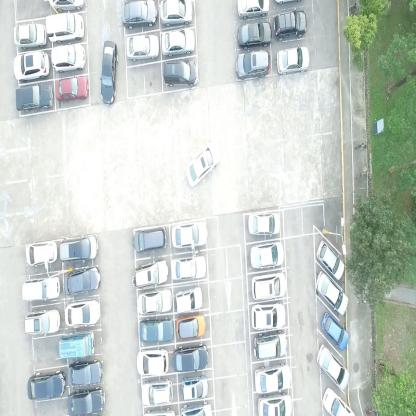car: (314, 343, 350, 392), (314, 268, 349, 316), (186, 139, 221, 187), (314, 237, 345, 282), (318, 310, 349, 352), (99, 38, 118, 105), (13, 49, 49, 84), (27, 368, 65, 400), (50, 42, 86, 75), (254, 363, 292, 394), (59, 233, 98, 263), (21, 274, 60, 304), (45, 12, 85, 41), (273, 8, 307, 42), (132, 258, 168, 290), (64, 264, 100, 296), (235, 48, 271, 80), (58, 330, 95, 361), (16, 82, 53, 113), (64, 298, 102, 328), (67, 385, 104, 415), (320, 386, 356, 416), (24, 307, 60, 337), (251, 272, 289, 300), (172, 344, 210, 372), (120, 0, 158, 28), (170, 254, 208, 281), (136, 348, 170, 378), (132, 224, 166, 254), (137, 287, 172, 316), (252, 304, 288, 332), (274, 47, 310, 75), (126, 33, 160, 62), (237, 20, 271, 49), (250, 241, 285, 269), (253, 334, 288, 362), (139, 316, 174, 344), (67, 359, 102, 387), (11, 23, 47, 50), (25, 238, 57, 268), (56, 74, 90, 102), (163, 60, 198, 87), (172, 222, 208, 248), (247, 209, 281, 236), (162, 28, 196, 55), (141, 377, 173, 405), (159, 0, 193, 26), (257, 394, 294, 416), (176, 285, 204, 314), (176, 314, 207, 340), (182, 374, 209, 401), (236, 0, 270, 18), (48, 0, 86, 14), (180, 402, 212, 416), (144, 406, 176, 416)
